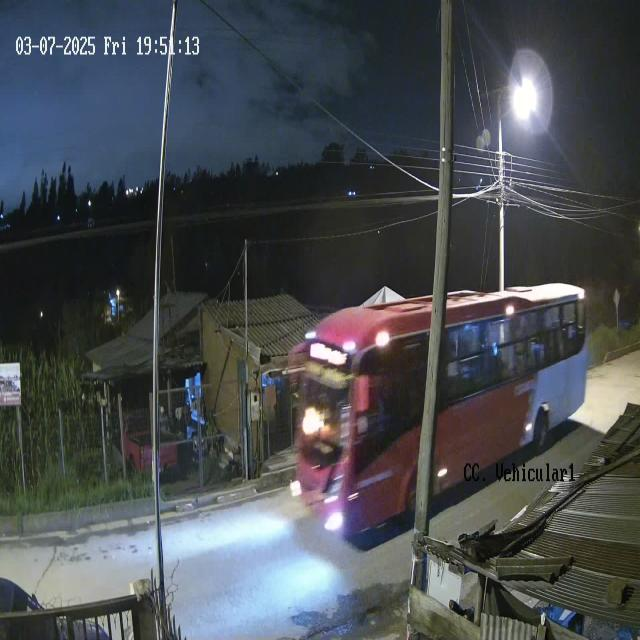BUS: (292, 284, 590, 550)
